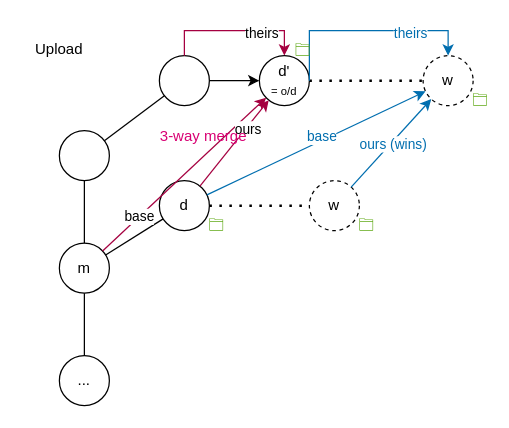
Image size: 509x428. Some labels were removed from this diagram. The shapes that lost their labels are listed below. From the top down, each one's centre as x and y in pixels, then its label:
At pixel 183 80: "o/d".
At pixel 83 155: "o/m".
